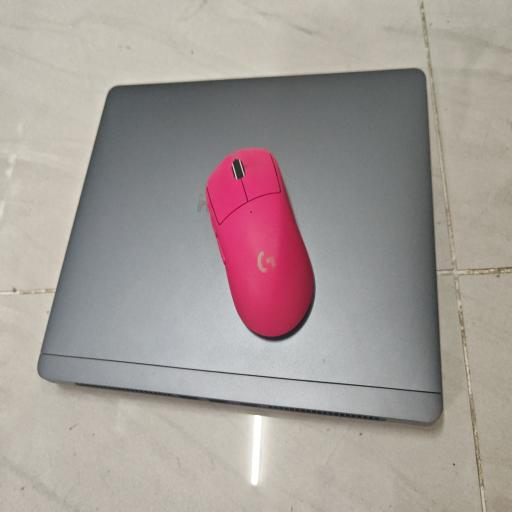laptop: (38, 69, 442, 423)
mouse: (206, 148, 314, 337)
